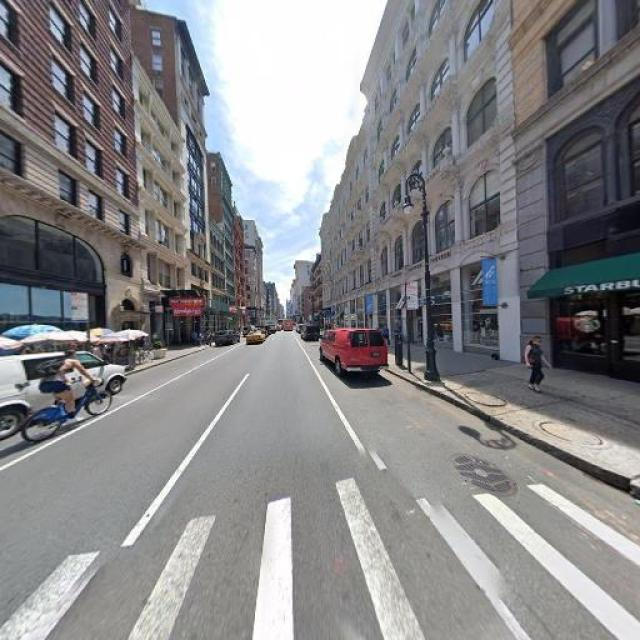Building: (322, 1, 512, 369), (1, 1, 140, 374), (517, 1, 640, 398), (143, 84, 190, 347)
